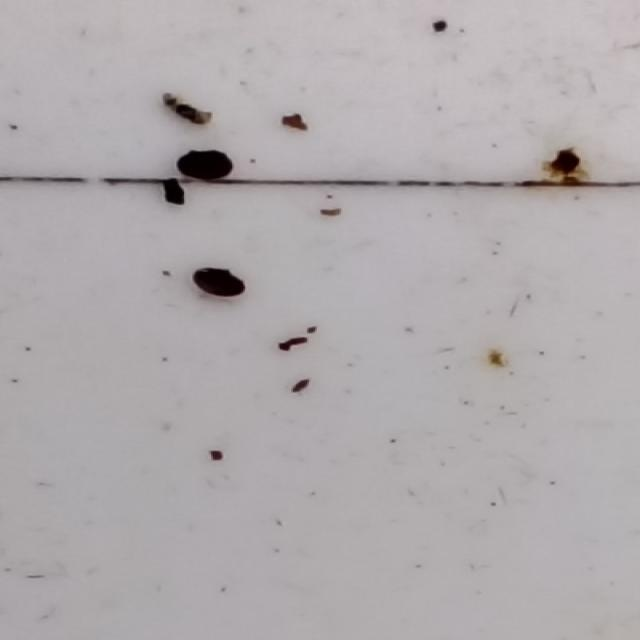varroa: (177, 149, 234, 180), (195, 268, 246, 300)
